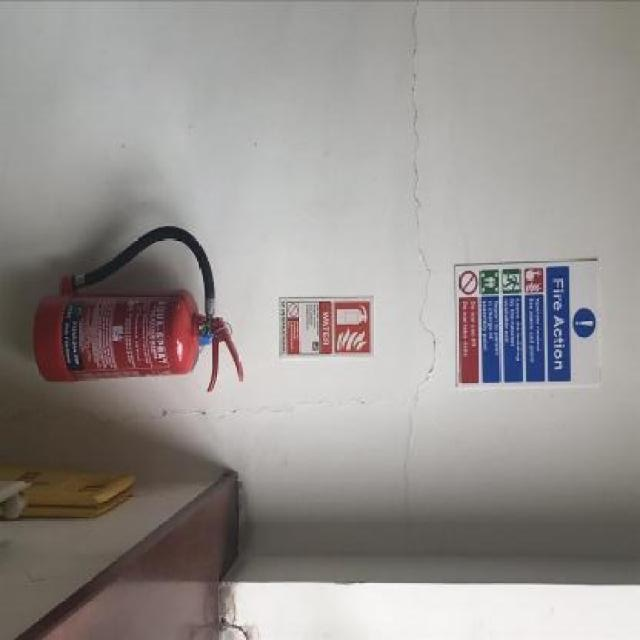fire extinguisher: (32, 227, 243, 395)
